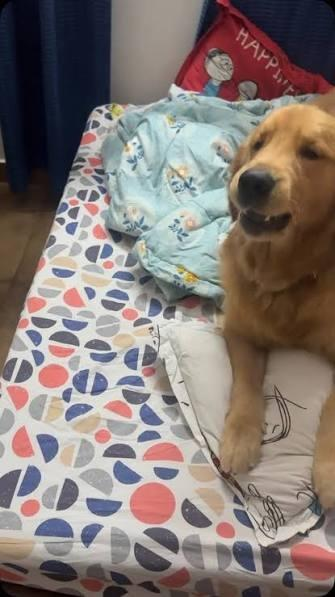adult_dog: (215, 90, 335, 515)
